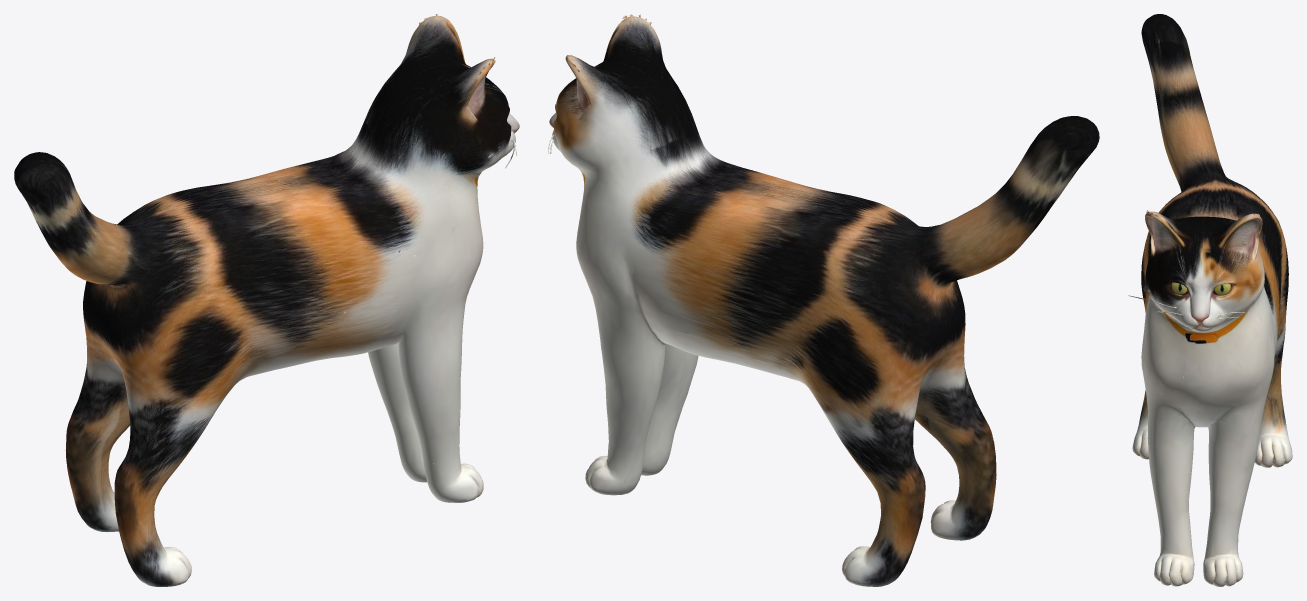
File: DELILAHCAT.glb
3 views of the same model, side by side, from view 1: azimuth 30°, elevation 25°; view 2: azimuth 150°, elevation 25°; view 3: azimuth 270°, elevation 25° (orthographic). The views are drawn at different scales.
Visible parts, largest first — view 1: fit; view 2: fit; view 3: fit.
Boxes of the visible parts, box(x1,y1,x2,y2) form: fit: box(14, 14, 519, 586); fit: box(548, 14, 1099, 586); fit: box(1128, 14, 1292, 586).
Bounding box in the file's own units: 1.21 × 0.9998 × 0.3857.
1 material, 1 textured.
